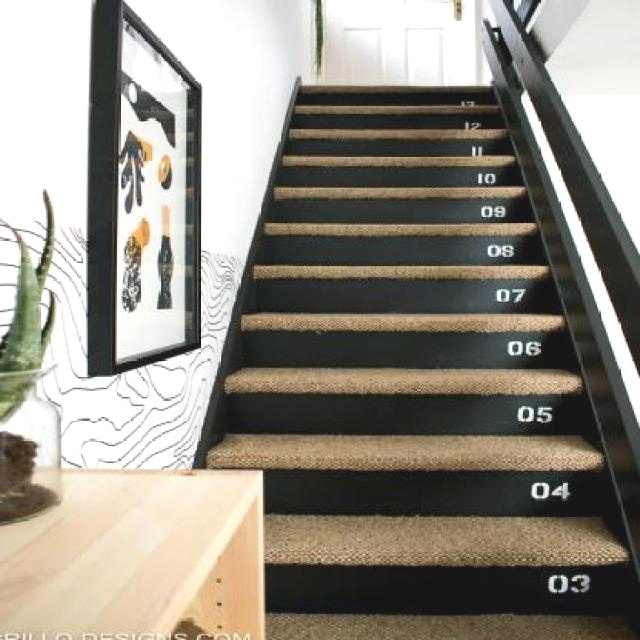stair: (175, 22, 639, 639)
